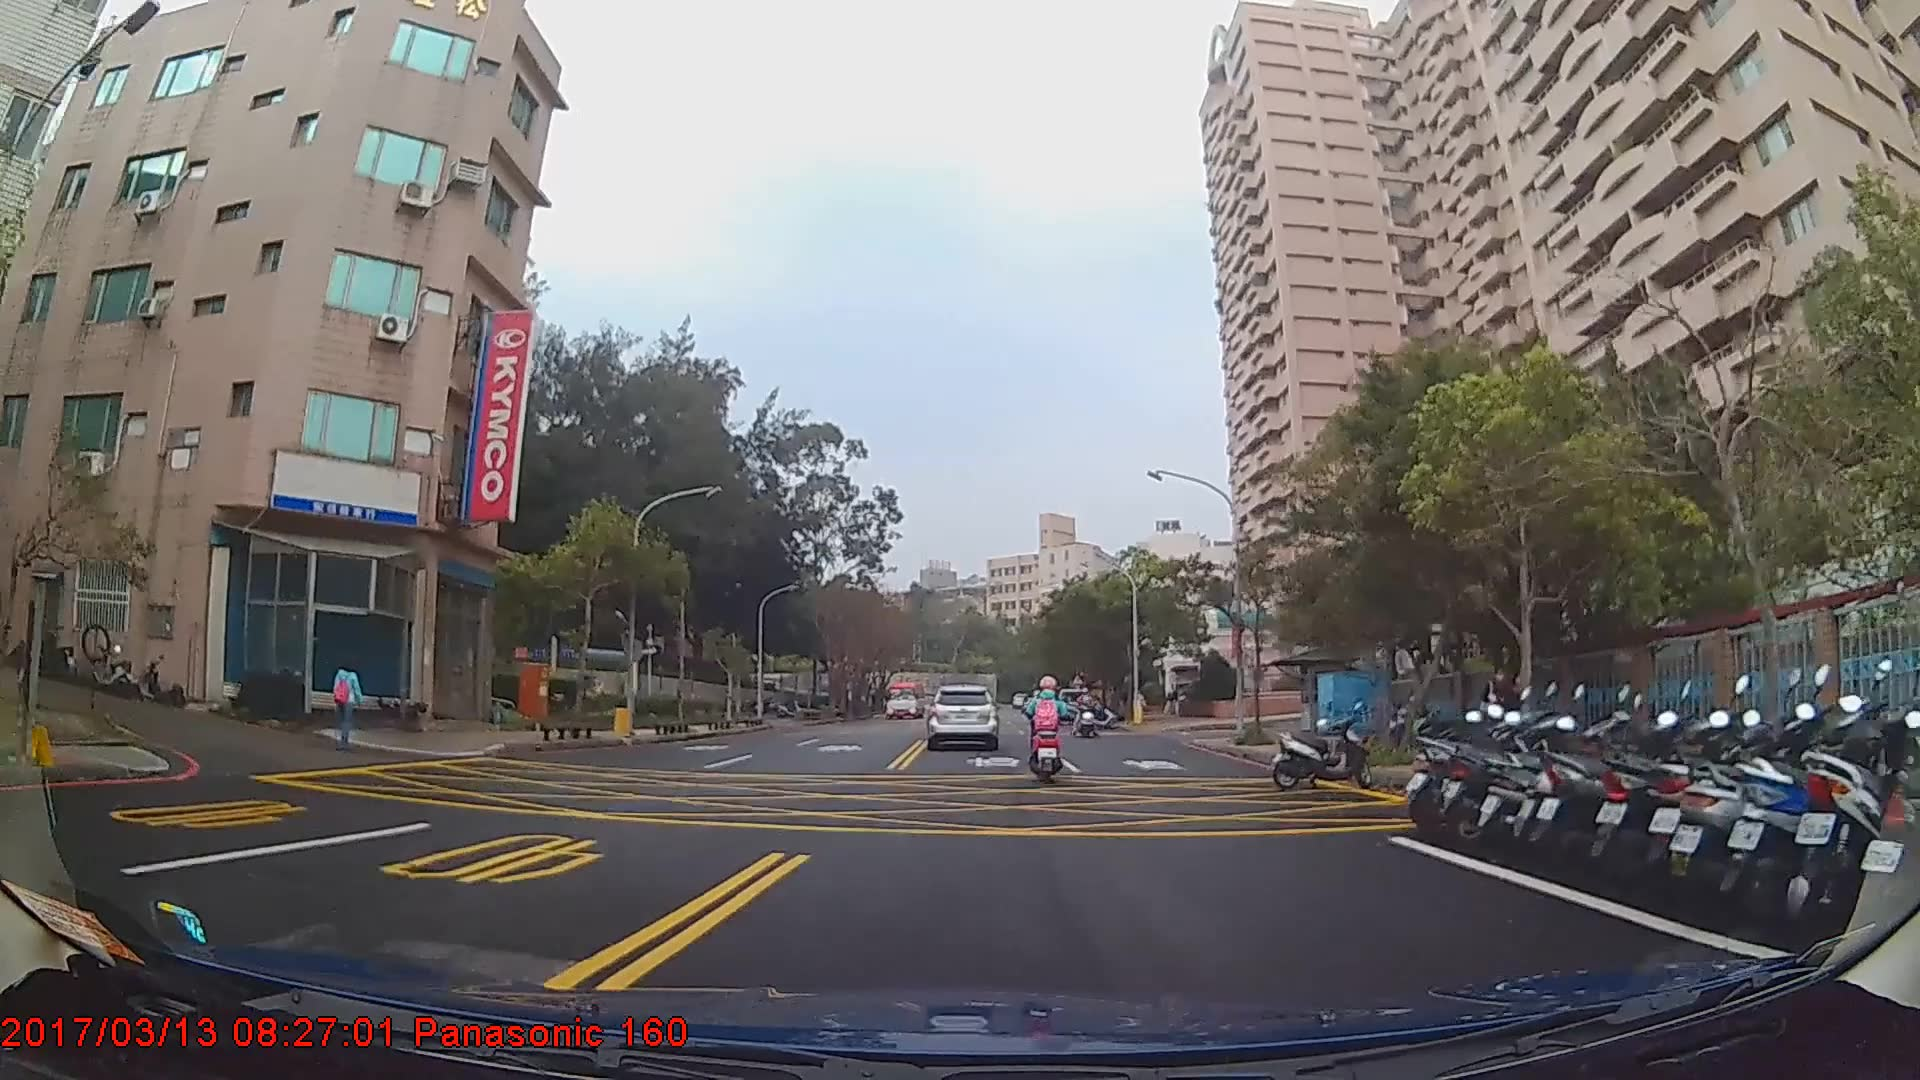pedestrian: (1475, 660, 1513, 752), (333, 653, 365, 751)
rider: (1024, 666, 1071, 778), (1073, 686, 1098, 737)
vehicle: (924, 680, 997, 746), (882, 679, 925, 719)
